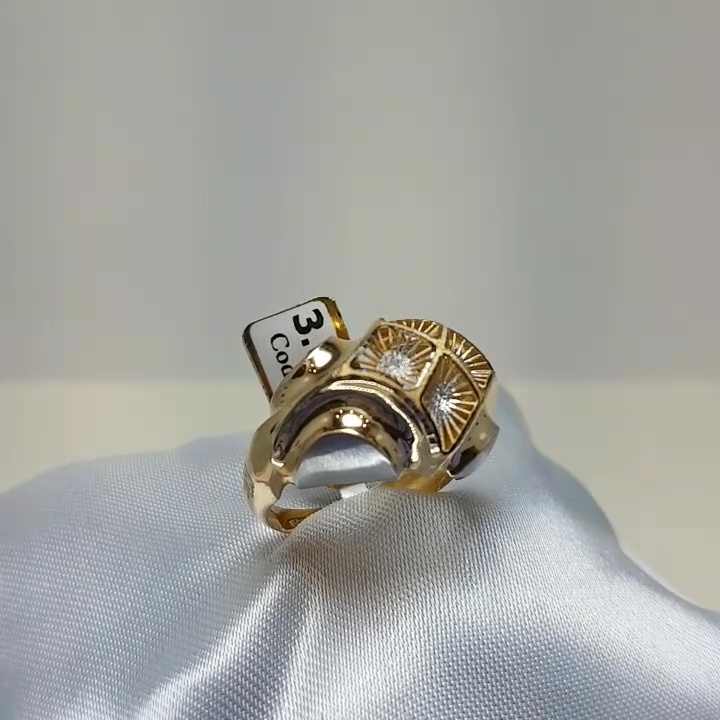Ring 2: (243, 290, 508, 547)
